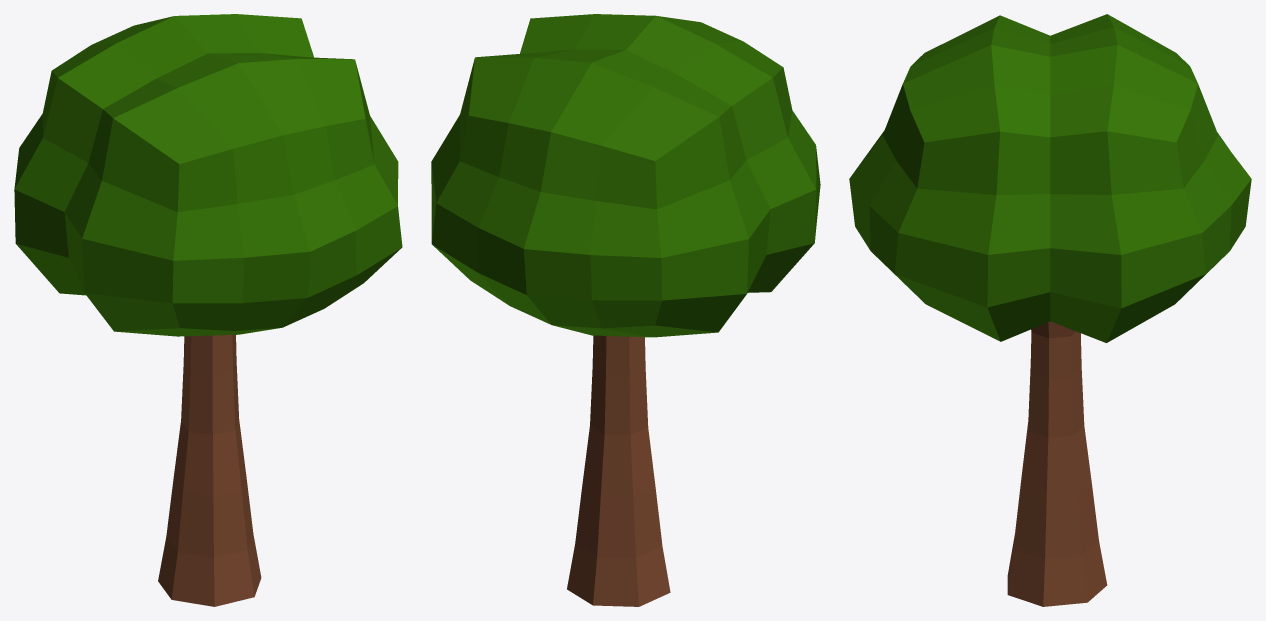
Rendered from tree_lowpoly.fbx.
3 views of the same model, side by side, from view 1: azimuth 30°, elevation 25°; view 2: azimuth 150°, elevation 25°; view 3: azimuth 270°, elevation 25° (orthographic).
Parts seen in each view (by area): view 1: Tree1; view 2: Tree1; view 3: Tree1.
Part boxes in pixels (left/top/right/bottom): Tree1: left=14, top=14, right=402, bottom=606; Tree1: left=431, top=14, right=820, bottom=606; Tree1: left=849, top=14, right=1251, bottom=606.
Bounding box in the file's own units: 613 × 1011 × 685.
